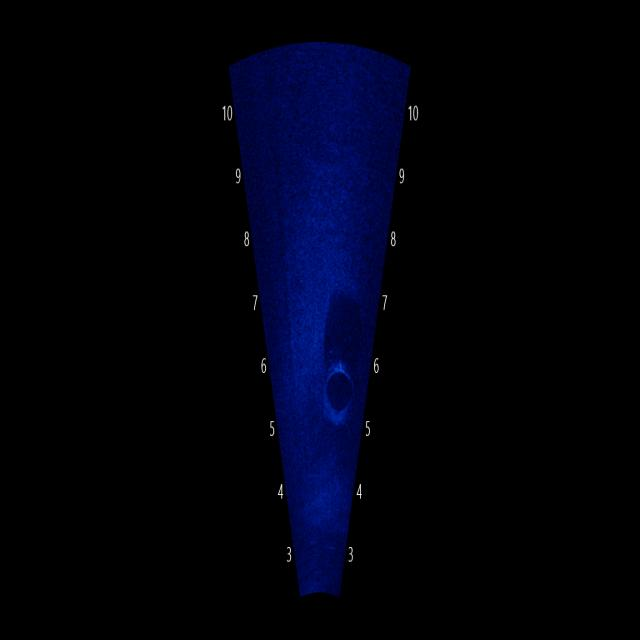circle: (314, 336, 364, 435)
